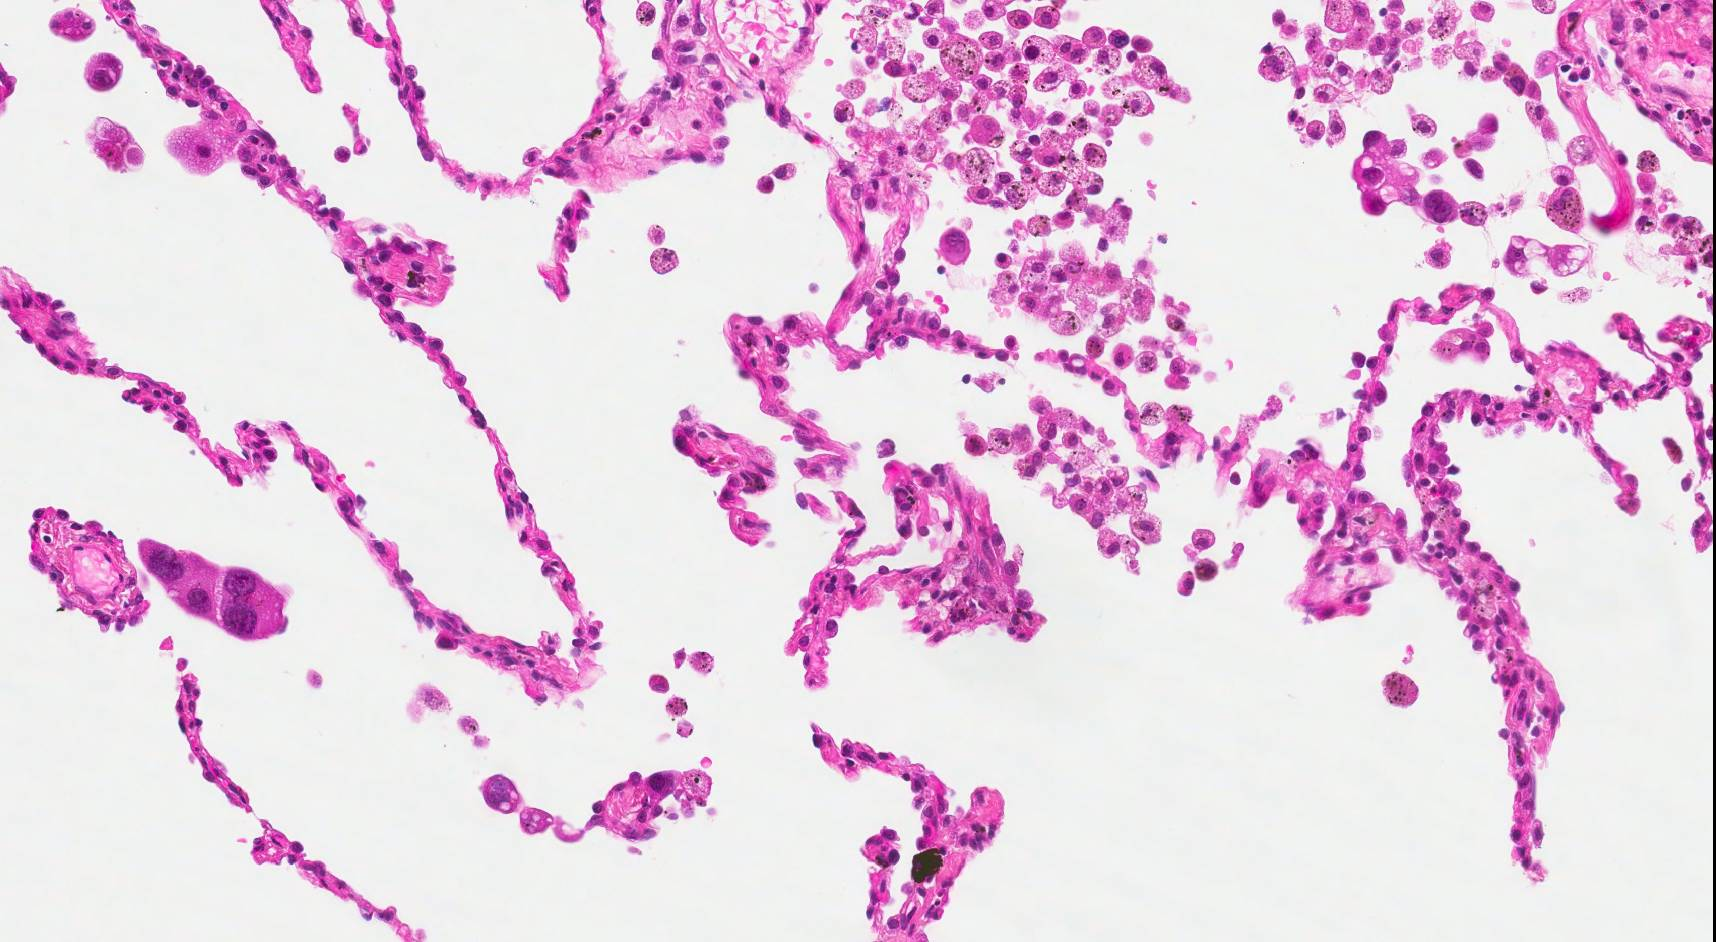stas: (135, 534, 296, 644), (1352, 128, 1464, 228), (84, 49, 123, 92)
